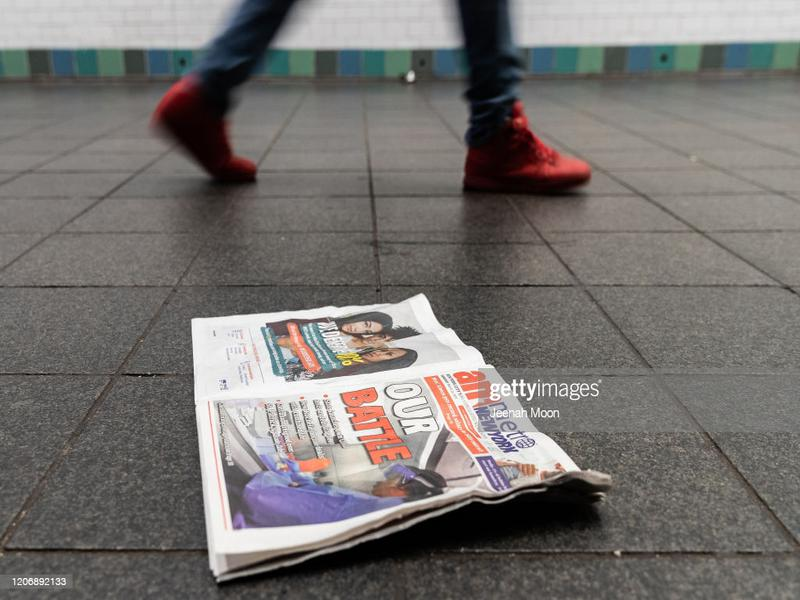paper: (173, 284, 617, 590)
